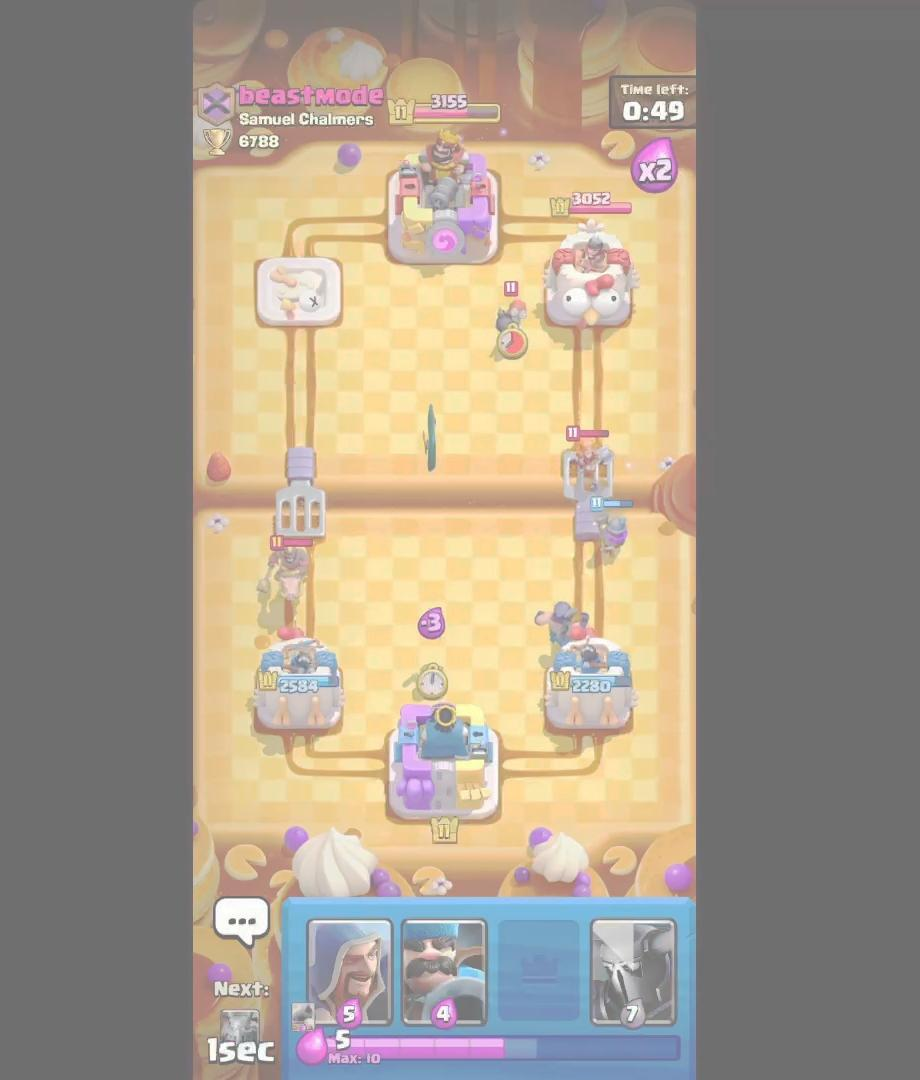Bomber: (493, 278, 535, 360)
Hog Rider: (255, 529, 325, 606)
